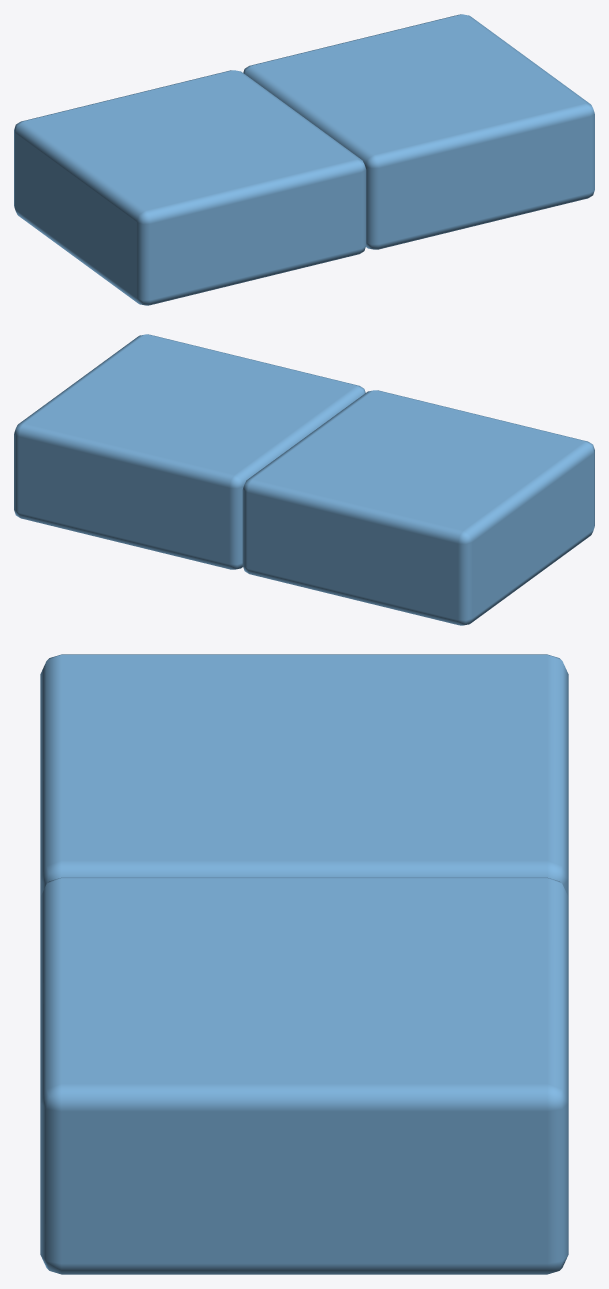
File: cube_with_river.02.glb
3 views of the same model, one above another, from view 1: azimuth 30°, elevation 25°; view 2: azimuth 150°, elevation 25°; view 3: azimuth 270°, elevation 25° (orthographic). The views are drawn at different scales.
Parts seen in each view (by area): view 1: Cube.252; view 2: Cube.252; view 3: Cube.252.
Part boxes in pixels (left/top/right/bottom): Cube.252: left=14, top=14, right=594, bottom=305; Cube.252: left=14, top=334, right=594, bottom=625; Cube.252: left=40, top=654, right=568, bottom=1274.
Size of the model in its own units: 2 by 0.3972 by 1.
Materials: 1 (1 with a texture image).
